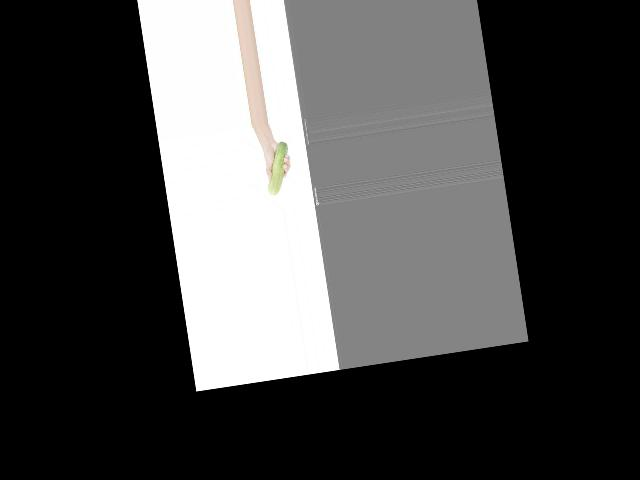cucumber: (261, 140, 294, 195)
